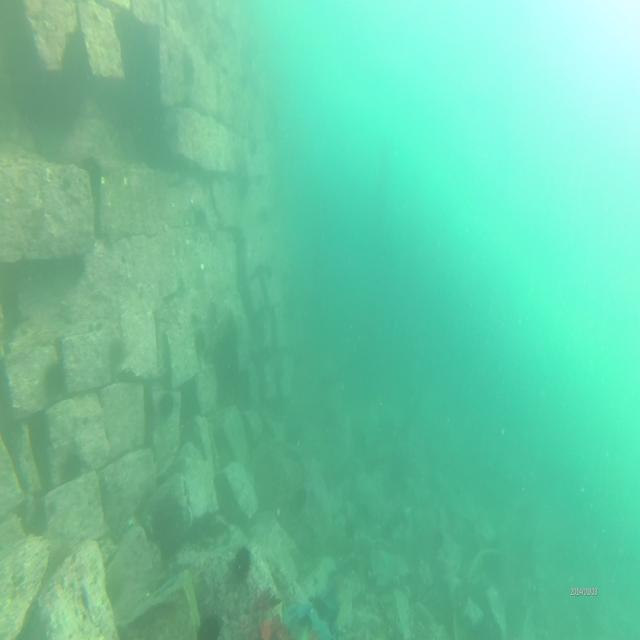echinus: (230, 540, 255, 588), (194, 605, 228, 640), (58, 444, 86, 484), (84, 158, 104, 199), (190, 199, 211, 238), (47, 360, 67, 396), (158, 389, 176, 426), (108, 338, 128, 371), (341, 515, 360, 549), (180, 52, 196, 90), (192, 326, 208, 360), (294, 479, 308, 512), (256, 204, 270, 237), (258, 341, 274, 369), (202, 50, 214, 66)
